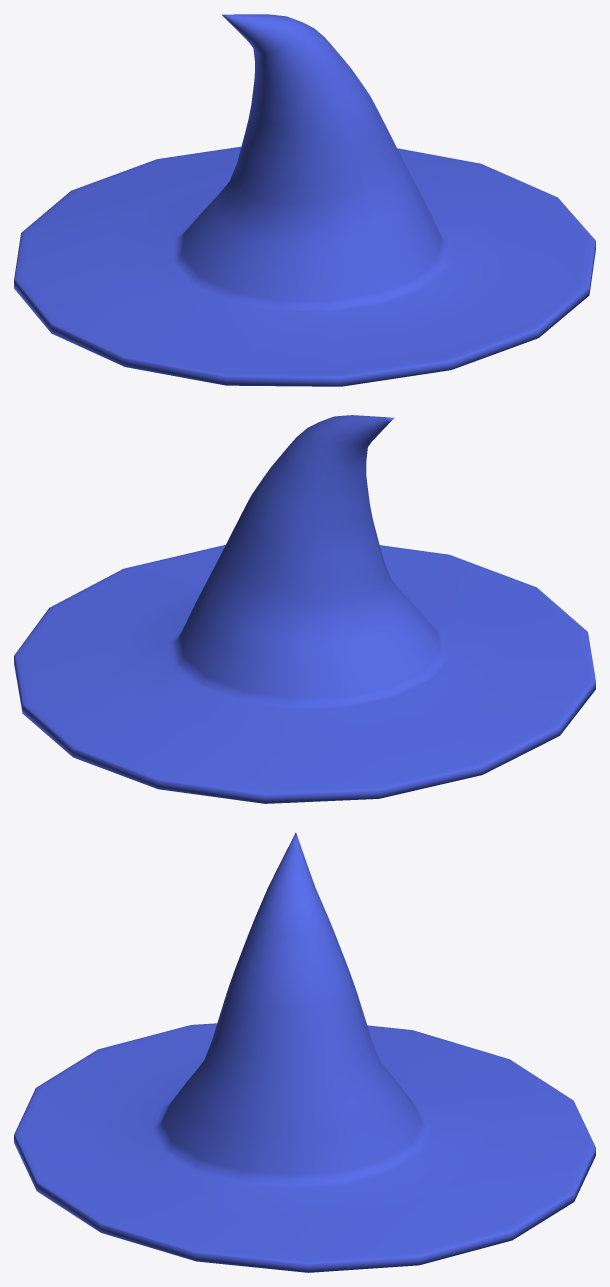
Rendered from WizardHat.fbx.
3 renders of one model, top to bottom at view 1: azimuth 30°, elevation 25°; view 2: azimuth 150°, elevation 25°; view 3: azimuth 270°, elevation 25°, orthographic.
Parts seen in each view (by area): view 1: WizardHat; view 2: WizardHat; view 3: WizardHat.
Part boxes in pixels (box(x1,y1,x2,y2)): WizardHat: box(14, 14, 595, 386); WizardHat: box(14, 415, 595, 803); WizardHat: box(14, 832, 595, 1272).
Size of the model in its own units: 93.76 by 50.07 by 93.61.
